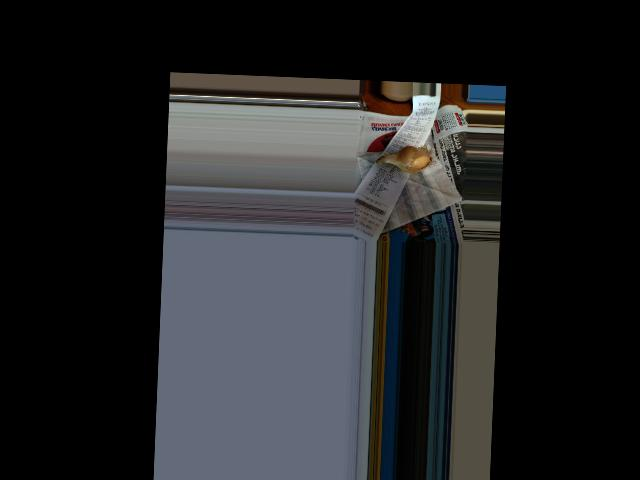onion: (379, 147, 428, 173)
